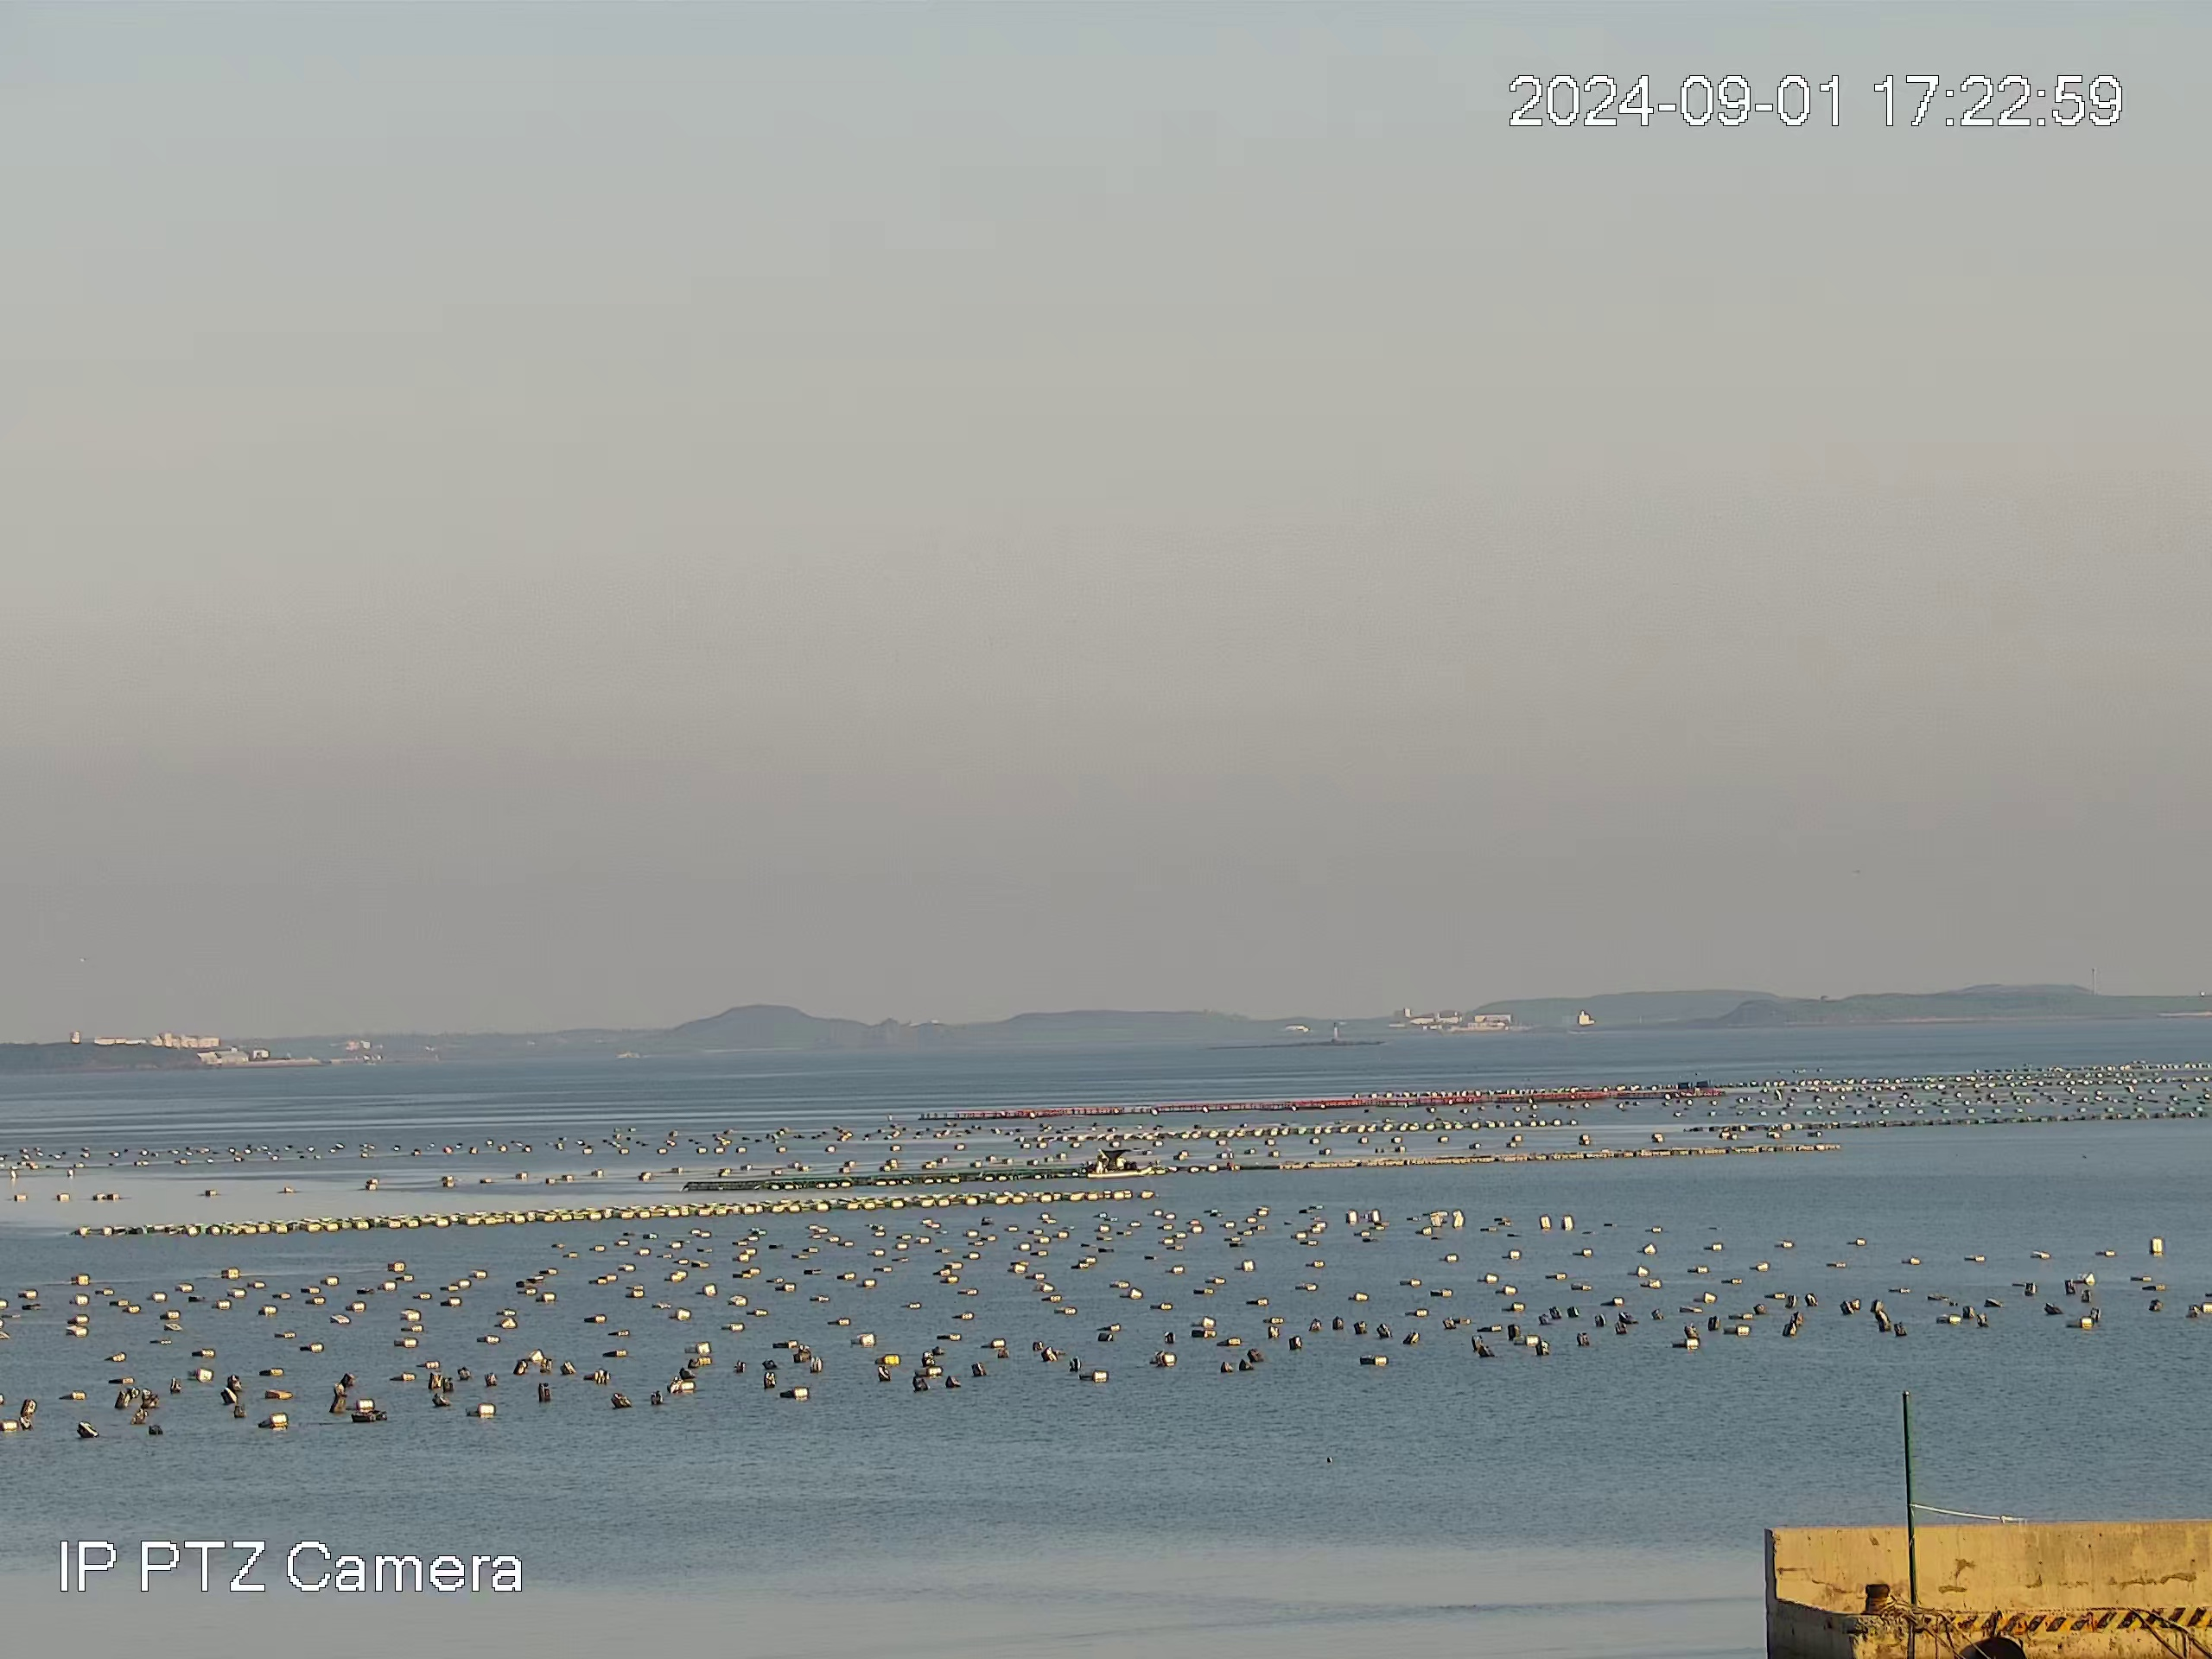boat: (1096, 1147, 1163, 1180)
